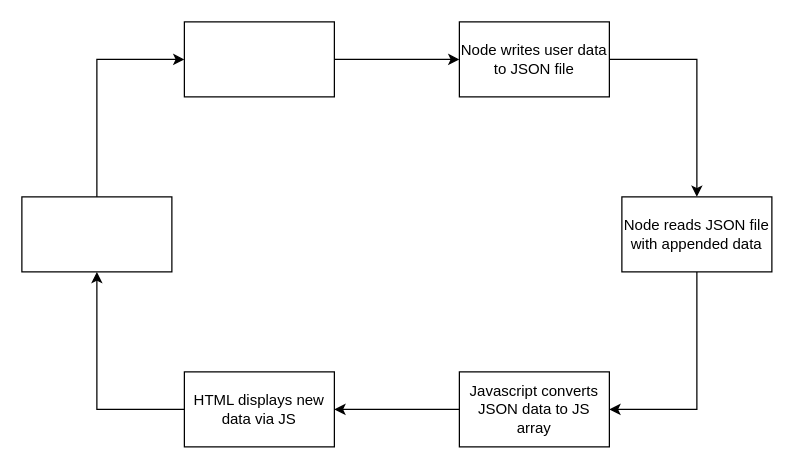
The diagram is 794 pixels wide and 469 high, and some of its shapes have lost their labels. Here are the shapes that lost their labels. From the top down, the box of each, then its label:
(183, 21, 334, 97): Javascript converts user data to JSON
(21, 196, 172, 272): User enters data with HTML input
